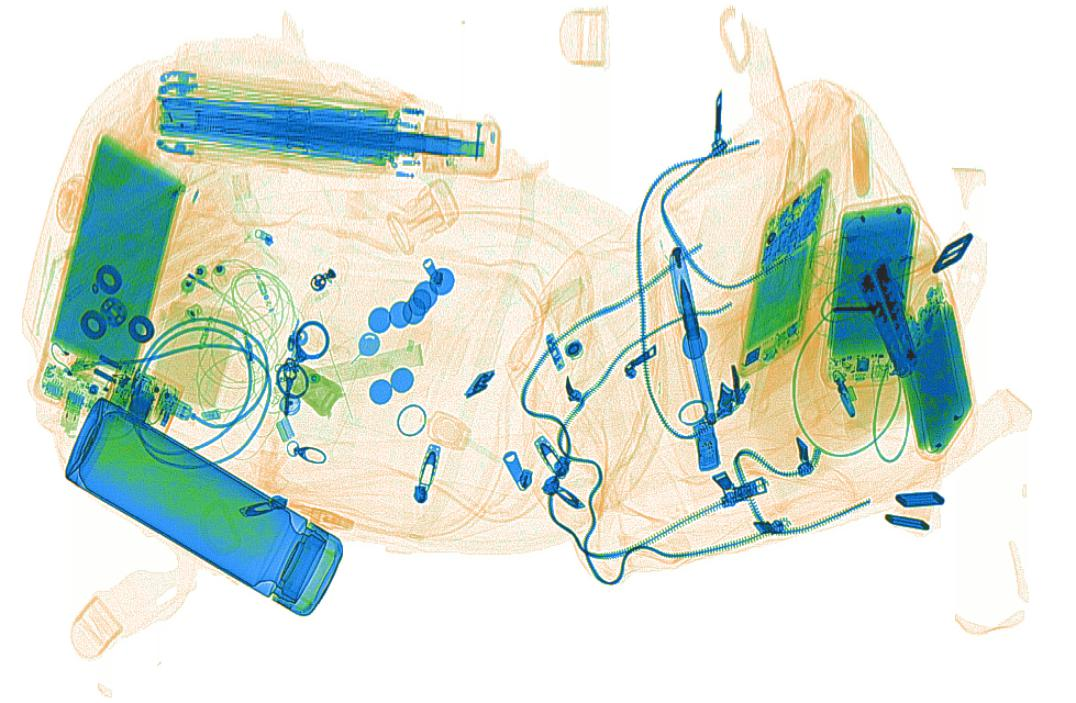USBFlashDisk: (692, 420, 720, 472)
knife: (856, 254, 922, 379)
